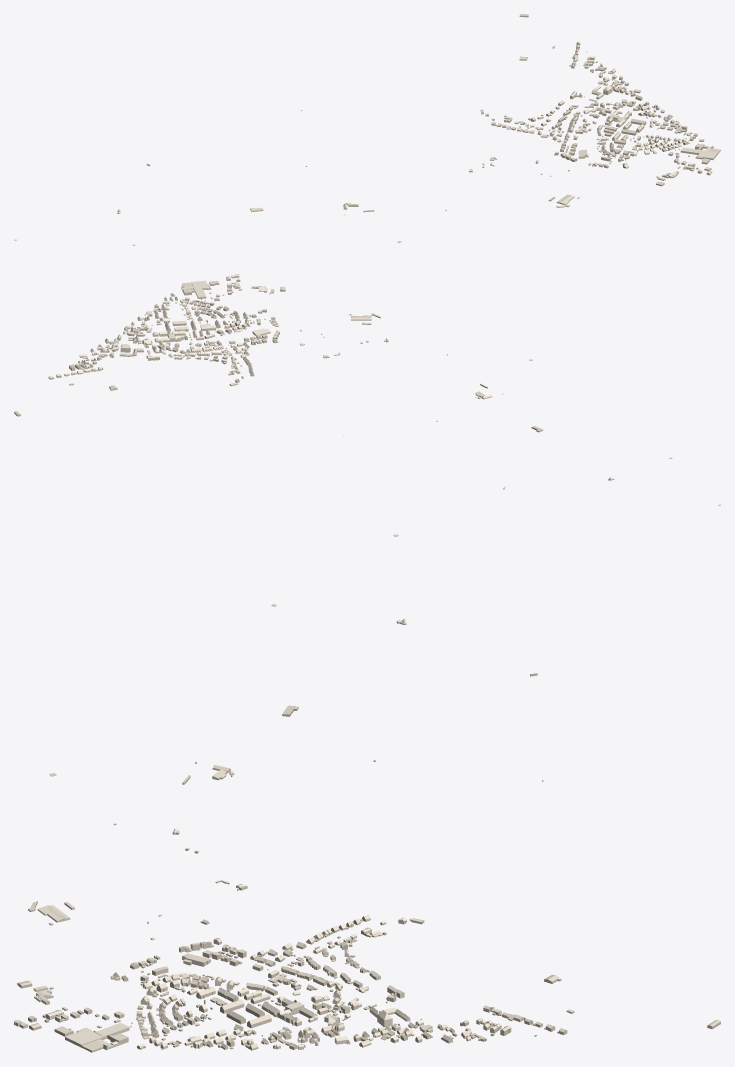
The picture shows the model from 3 angles, top to bottom: view 1: azimuth 30°, elevation 25°; view 2: azimuth 150°, elevation 25°; view 3: azimuth 270°, elevation 25°; orthographic projection. The views are drawn at different scales.
Size of the model in its own units: 2460 by 85.42 by 1404.
